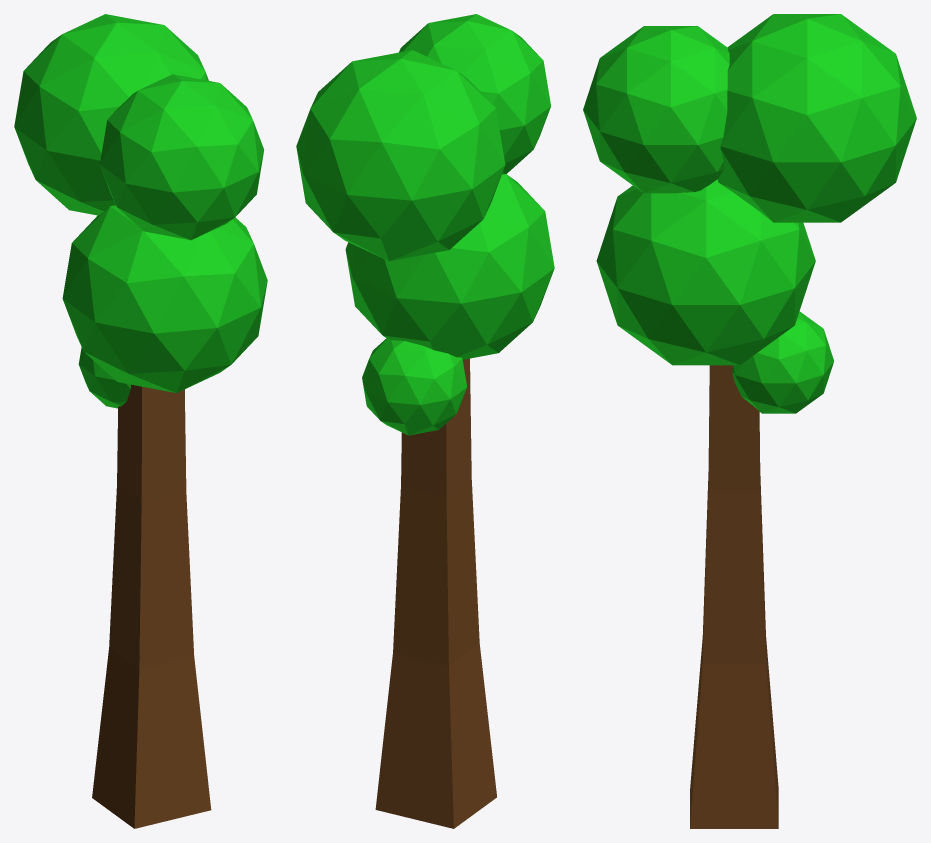
File: Tree.fbx
3 views of the same model, side by side, from view 1: azimuth 30°, elevation 25°; view 2: azimuth 150°, elevation 25°; view 3: azimuth 270°, elevation 25° (orthographic). The views are drawn at different scales.
Visible parts, largest first — view 1: Tree; view 2: Tree; view 3: Tree.
Boxes of the visible parts, x1,y1,x2,y2 form: Tree: (14,14,267,828); Tree: (296,14,554,828); Tree: (583,14,916,828).
Bounding box in the file's own units: 84.56 × 354 × 135.
